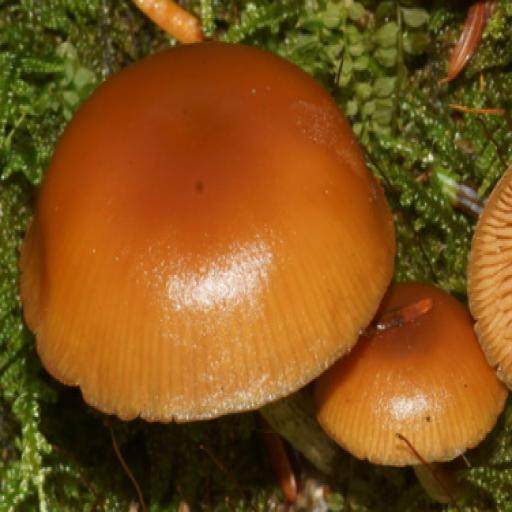mushroom: (17, 35, 509, 458)
